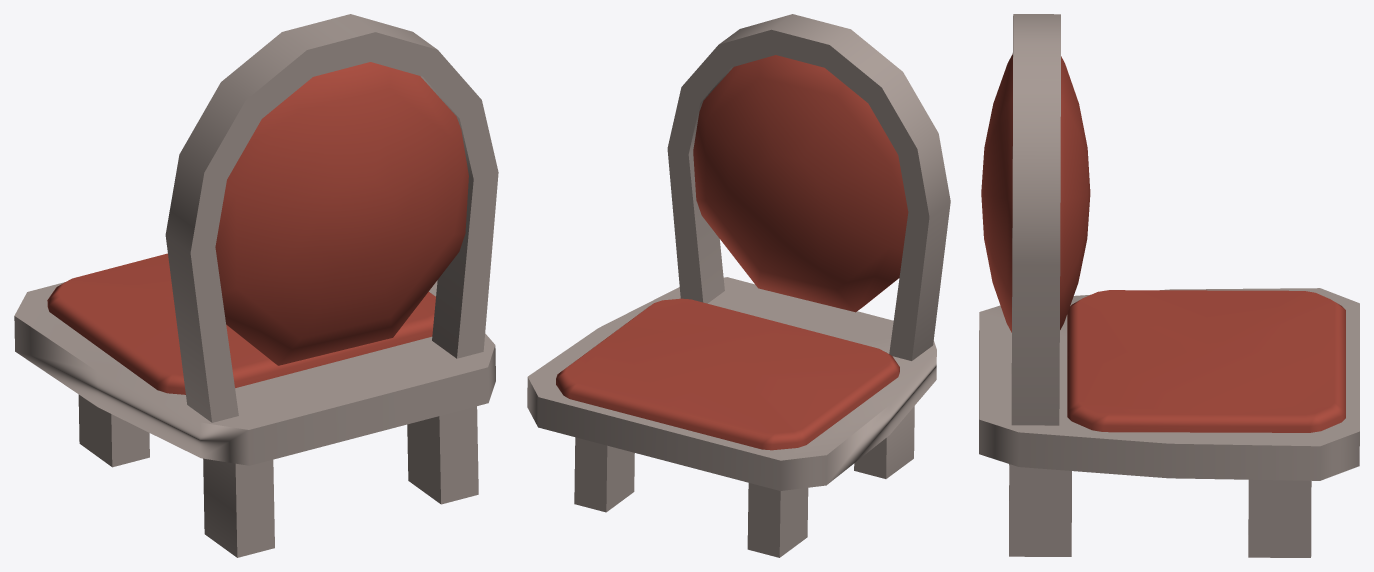
File: PoshChair.fbx
3 views of the same model, side by side, from view 1: azimuth 30°, elevation 25°; view 2: azimuth 150°, elevation 25°; view 3: azimuth 270°, elevation 25° (orthographic). The views are drawn at different scales.
Parts seen in each view (by area): view 1: PoshChair; view 2: PoshChair; view 3: PoshChair.
Part boxes in pixels (<box>): PoshChair: <box>14,14,498,557</box>; PoshChair: <box>527,14,950,557</box>; PoshChair: <box>979,14,1359,557</box>.
Size of the model in its own units: 1.07 by 1.42 by 1.04.
Materials: 1 (1 with a texture image).
